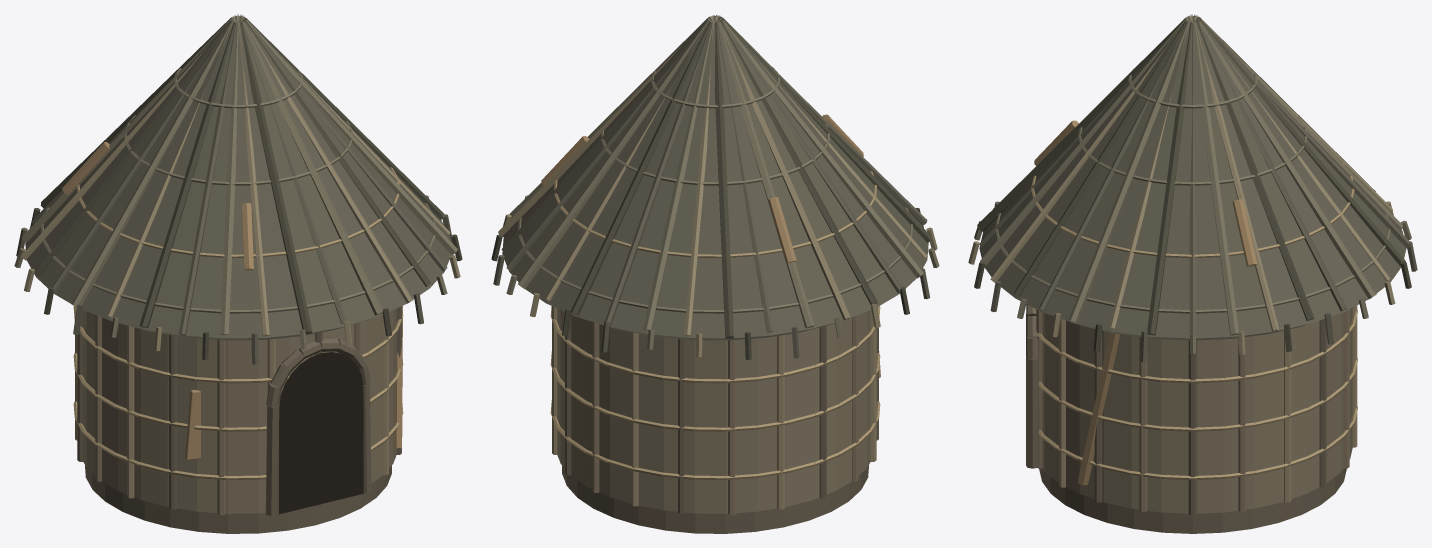
The model's file is cabana_palha_velha.glb.
The picture shows the model from 3 angles, left to right: view 1: azimuth 30°, elevation 25°; view 2: azimuth 150°, elevation 25°; view 3: azimuth 270°, elevation 25°; orthographic projection.
Parts seen in each view (by area): view 1: Telhado conico de palha, Parede circular de palha, Cabana de palha velha | Palha ressecada 1, Cabana de palha velha | Madeira velha 0, Entrada em arco, Cabana de palha velha | Palha ressecada 3, Cabana de palha velha | Palha ressecada 2, Cabana de palha velha | Palha ressecada 0, Cabana de palha velha | Corda antiga, Cabana de palha velha | Remendos de madeira, Cabana de palha velha | Madeira velha 1, Cabana de palha velha | Madeira velha 2; view 2: Telhado conico de palha, Parede circular de palha, Cabana de palha velha | Palha ressecada 1, Cabana de palha velha | Palha ressecada 3, Cabana de palha velha | Madeira velha 0, Cabana de palha velha | Palha ressecada 0, Cabana de palha velha | Palha ressecada 2, Cabana de palha velha | Corda antiga, Cabana de palha velha | Madeira velha 2, Cabana de palha velha | Madeira velha 1, Cabana de palha velha | Remendos de madeira; view 3: Telhado conico de palha, Parede circular de palha, Cabana de palha velha | Palha ressecada 1, Cabana de palha velha | Madeira velha 0, Cabana de palha velha | Palha ressecada 3, Cabana de palha velha | Palha ressecada 0, Cabana de palha velha | Palha ressecada 2, Cabana de palha velha | Corda antiga, Cabana de palha velha | Madeira velha 1, Cabana de palha velha | Madeira velha 2, Cabana de palha velha | Remendos de madeira.
Boxes of the visible parts, box(x1,y1,x2,y2) form: Telhado conico de palha: box(25, 14, 451, 340); Parede circular de palha: box(83, 308, 396, 513); Cabana de palha velha | Palha ressecada 1: box(14, 16, 457, 349); Cabana de palha velha | Madeira velha 0: box(77, 306, 401, 533); Entrada em arco: box(279, 352, 363, 514); Cabana de palha velha | Palha ressecada 3: box(30, 16, 462, 359); Cabana de palha velha | Palha ressecada 2: box(21, 16, 460, 350); Cabana de palha velha | Palha ressecada 0: box(16, 16, 452, 364); Cabana de palha velha | Corda antiga: box(73, 167, 403, 480); Cabana de palha velha | Remendos de madeira: box(62, 142, 402, 460); Cabana de palha velha | Madeira velha 1: box(95, 315, 361, 515); Cabana de palha velha | Madeira velha 2: box(75, 317, 388, 498); Telhado conico de palha: box(502, 15, 928, 340); Parede circular de palha: box(557, 308, 870, 513); Cabana de palha velha | Palha ressecada 1: box(506, 16, 939, 349); Cabana de palha velha | Palha ressecada 3: box(491, 16, 932, 359); Cabana de palha velha | Madeira velha 0: box(562, 317, 878, 533); Cabana de palha velha | Palha ressecada 0: box(493, 16, 930, 358); Cabana de palha velha | Palha ressecada 2: box(498, 16, 937, 357); Cabana de palha velha | Corda antiga: box(550, 171, 880, 480); Cabana de palha velha | Madeira velha 2: box(552, 306, 876, 509); Cabana de palha velha | Madeira velha 1: box(592, 315, 858, 515); Cabana de palha velha | Remendos de madeira: box(541, 114, 880, 377); Telhado conico de palha: box(979, 14, 1406, 340); Parede circular de palha: box(1042, 308, 1352, 513); Cabana de palha velha | Palha ressecada 1: box(974, 16, 1411, 353); Cabana de palha velha | Madeira velha 0: box(1026, 304, 1346, 533); Cabana de palha velha | Palha ressecada 3: box(974, 16, 1411, 351); Cabana de palha velha | Palha ressecada 0: box(979, 17, 1417, 362); Cabana de palha velha | Palha ressecada 2: box(968, 17, 1395, 354); Cabana de palha velha | Corda antiga: box(1031, 162, 1357, 480); Cabana de palha velha | Madeira velha 1: box(1036, 309, 1349, 511); Cabana de palha velha | Madeira velha 2: box(1059, 305, 1357, 502); Cabana de palha velha | Remendos de madeira: box(1034, 120, 1257, 485).
Size of the model in its own units: 2.86 by 3.18 by 2.86.
